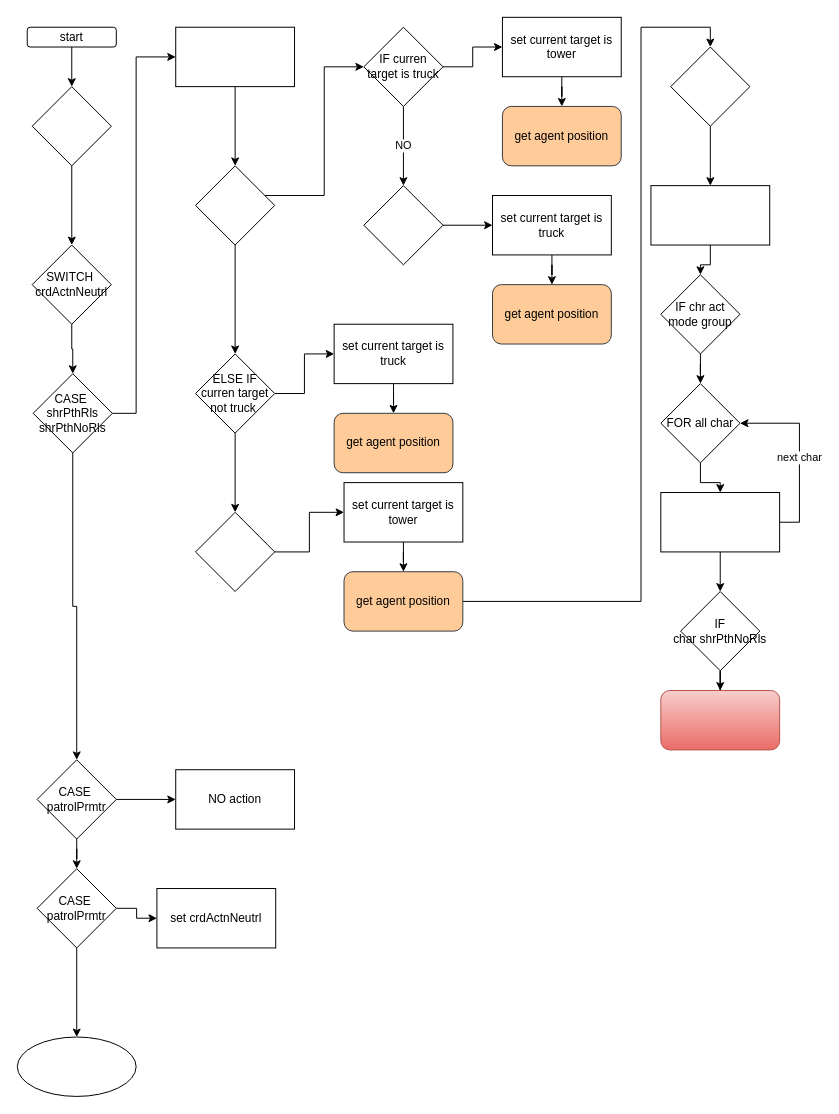
Some shapes in this 839 by 1114 pixel diagram are drawn without their labels. Here are the shapes that lost their labels. From the top down, the box of each, then its label:
(175, 26, 295, 87): Get the target truck id and player
(670, 46, 750, 126): IF target is not undefined
(31, 86, 111, 166): IF char has card action neutral
(195, 165, 275, 245): IF current target is truck or tower
(363, 185, 443, 265): ELSE IF curren target is tower
(650, 185, 770, 245): set the target
(660, 492, 780, 552): set the leader target agent, target postion
(195, 511, 275, 592): ELSE IF curren target not tower
(660, 690, 780, 750): call findPathRules
(16, 1036, 136, 1096): end
